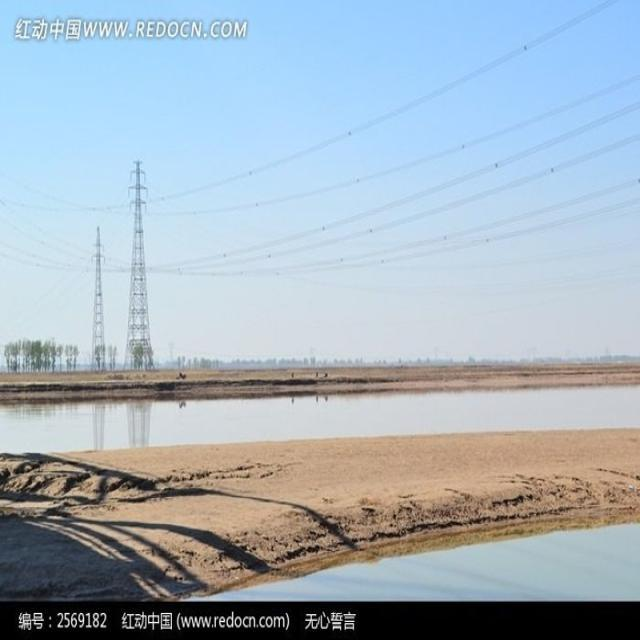non-critical vegetation: (114, 150, 164, 364), (84, 222, 110, 374)
